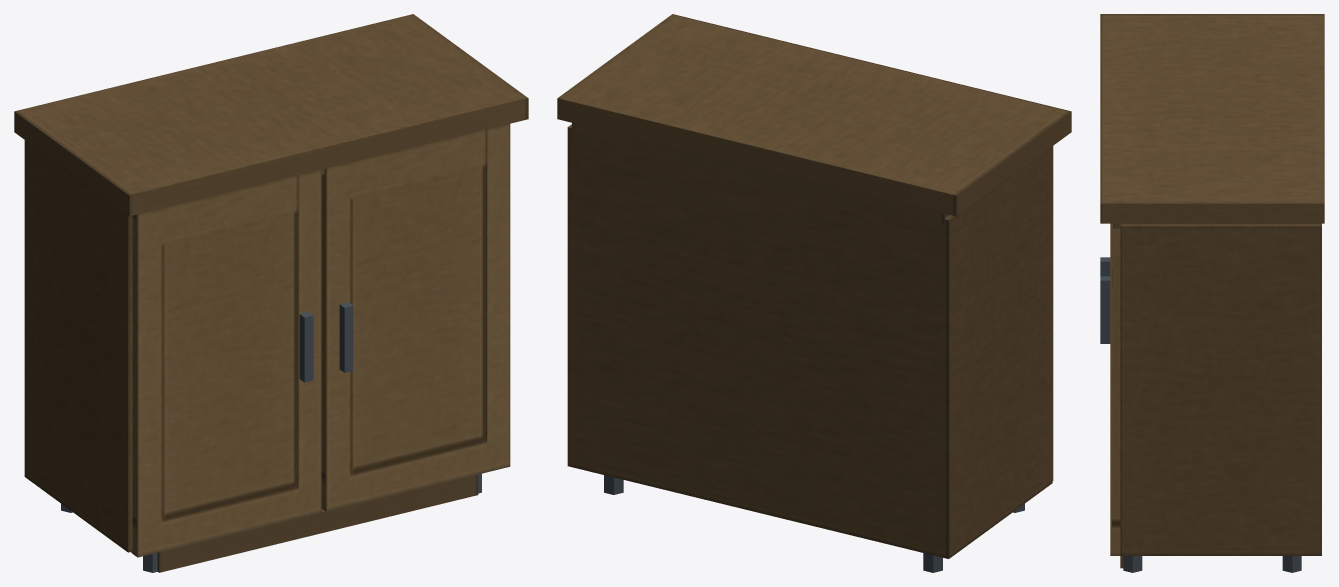
Rendered from cabinet.glb.
3 renders of one model, left to right at view 1: azimuth 30°, elevation 25°; view 2: azimuth 150°, elevation 25°; view 3: azimuth 270°, elevation 25°, orthographic. The views are drawn at different scales.
Visible parts, largest first — view 1: core_cabinet; view 2: core_cabinet; view 3: core_cabinet.
Boxes of the visible parts, <box> form: core_cabinet: <box>14,14,528,572</box>; core_cabinet: <box>557,14,1071,572</box>; core_cabinet: <box>1100,14,1324,572</box>.
Size of the model in its own units: 0.9 by 0.85 by 0.45.
Materials: 1 (1 with a texture image).
